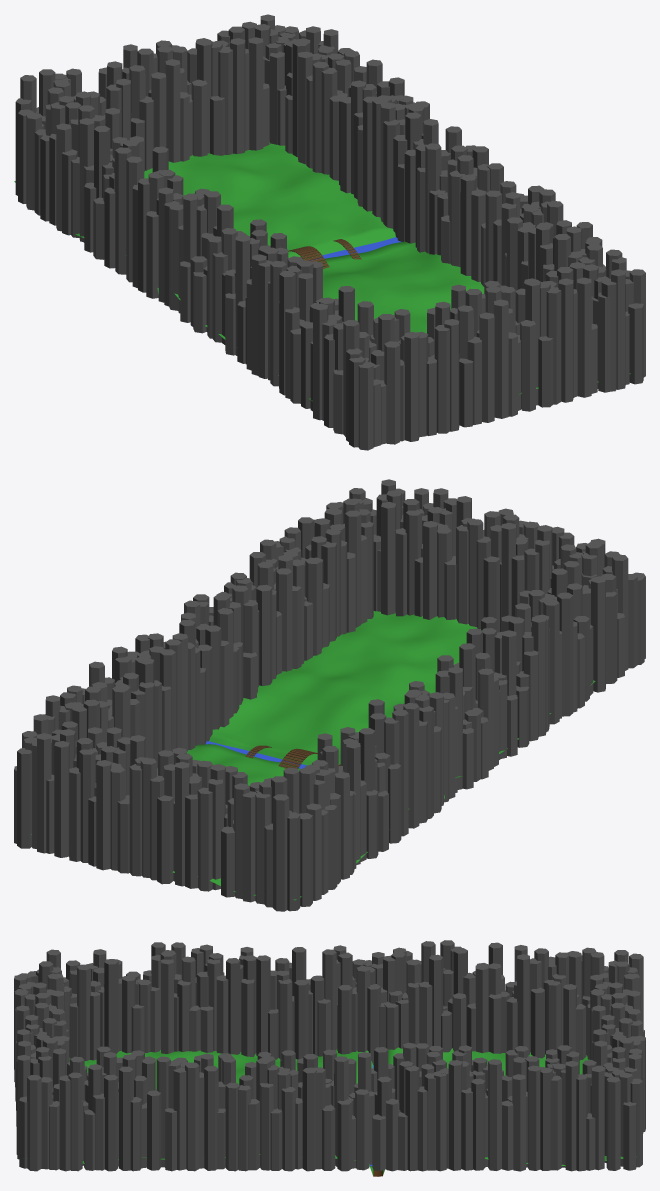
The model's file is Map1.fbx.
3 views of the same model, one above another, from view 1: azimuth 30°, elevation 25°; view 2: azimuth 150°, elevation 25°; view 3: azimuth 270°, elevation 25° (orthographic). The views are drawn at different scales.
Parts seen in each view (by area): view 1: Floor, Plane.512, Plane.494, Plane.586, Plane.558, Plane.530, Plane.232, Plane.175, Plane.604, Plane.622, Plane.580, Plane.523 (+87 smaller); view 2: Floor, Plane.227, Plane.660, Plane.568, Plane.630, Plane.436, Plane.290, Plane.627, Plane.634, Plane.051, Plane.286, Plane.614 (+89 smaller); view 3: Floor, Plane.305, Plane.307, Plane.196, Plane.491, Plane.011, Plane.027, Plane.352, Plane.486, Plane.136, Plane.480, Plane.460 (+119 smaller).
Part boxes in pixels (bbox=[...]): Floor: bbox=[14, 142, 630, 401]; Plane.512: bbox=[493, 299, 508, 418]; Plane.494: bbox=[577, 277, 591, 397]; Plane.586: bbox=[248, 37, 263, 150]; Plane.558: bbox=[404, 331, 419, 441]; Plane.530: bbox=[558, 278, 573, 402]; Plane.232: bbox=[384, 341, 400, 444]; Plane.175: bbox=[115, 147, 131, 274]; Plane.604: bbox=[165, 59, 180, 162]; Plane.622: bbox=[230, 38, 245, 153]; Plane.580: bbox=[479, 312, 494, 422]; Plane.523: bbox=[434, 325, 449, 433]; Floor: bbox=[31, 611, 595, 900]; Plane.227: bbox=[273, 794, 289, 911]; Plane.660: bbox=[54, 741, 69, 857]; Plane.568: bbox=[381, 501, 396, 615]; Plane.630: bbox=[96, 760, 111, 870]; Plane.436: bbox=[557, 592, 573, 716]; Plane.290: bbox=[591, 576, 605, 692]; Plane.627: bbox=[197, 787, 212, 891]; Plane.634: bbox=[242, 791, 256, 902]; Plane.051: bbox=[403, 703, 419, 828]; Plane.286: bbox=[17, 748, 31, 848]; Plane.614: bbox=[157, 795, 173, 884]; Floor: bbox=[26, 1047, 636, 1176]; Plane.305: bbox=[448, 1060, 462, 1170]; Plane.307: bbox=[488, 1059, 501, 1170]; Plane.196: bbox=[185, 1062, 199, 1171]; Plane.491: bbox=[527, 1065, 541, 1170]; Plane.011: bbox=[204, 1066, 218, 1170]; Plane.027: bbox=[302, 1067, 316, 1171]; Plane.352: bbox=[27, 1075, 41, 1171]; Plane.486: bbox=[606, 1076, 620, 1170]; Plane.136: bbox=[104, 959, 118, 1053]; Plane.480: bbox=[104, 1074, 118, 1171]; Plane.460: bbox=[565, 1060, 578, 1171].
Size of the model in its own units: 8662 by 3746 by 18324.
